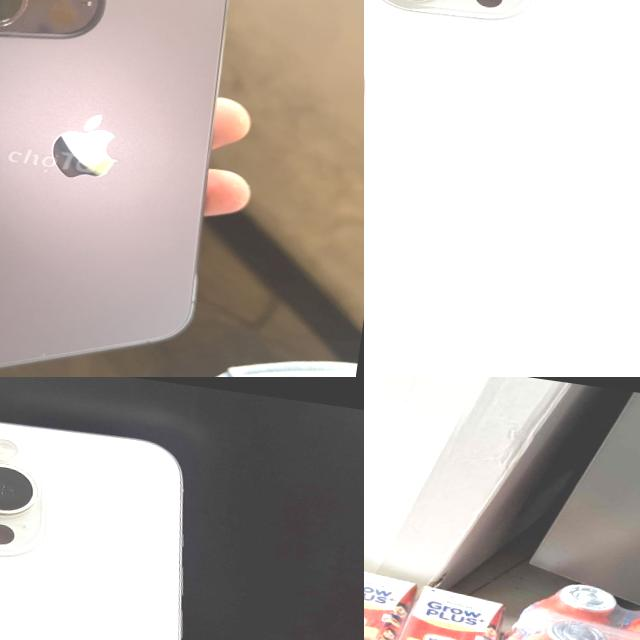gen_14: (0, 0, 274, 377)
gen_15: (364, 0, 640, 377), (0, 401, 261, 640), (364, 474, 640, 640)
